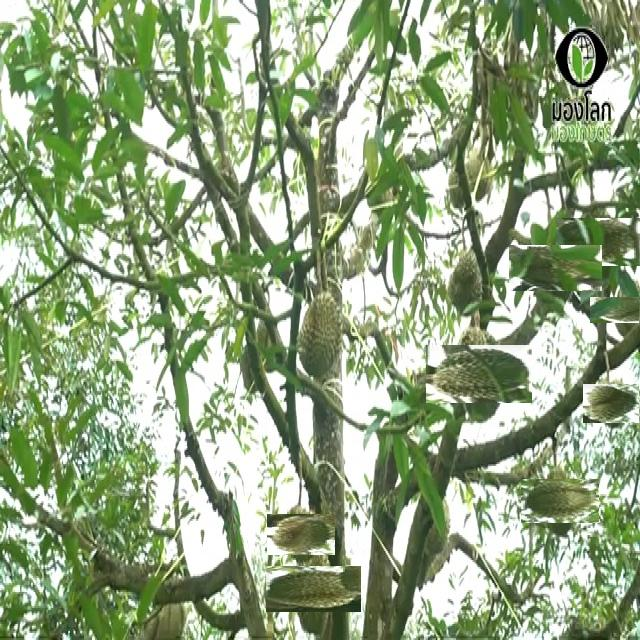durian: (438, 332, 521, 415), (295, 282, 349, 388), (278, 554, 348, 624), (520, 233, 590, 303), (565, 208, 633, 276), (529, 471, 591, 532), (274, 506, 328, 562), (587, 379, 635, 427), (464, 150, 496, 211), (601, 285, 640, 334), (446, 158, 475, 216)
